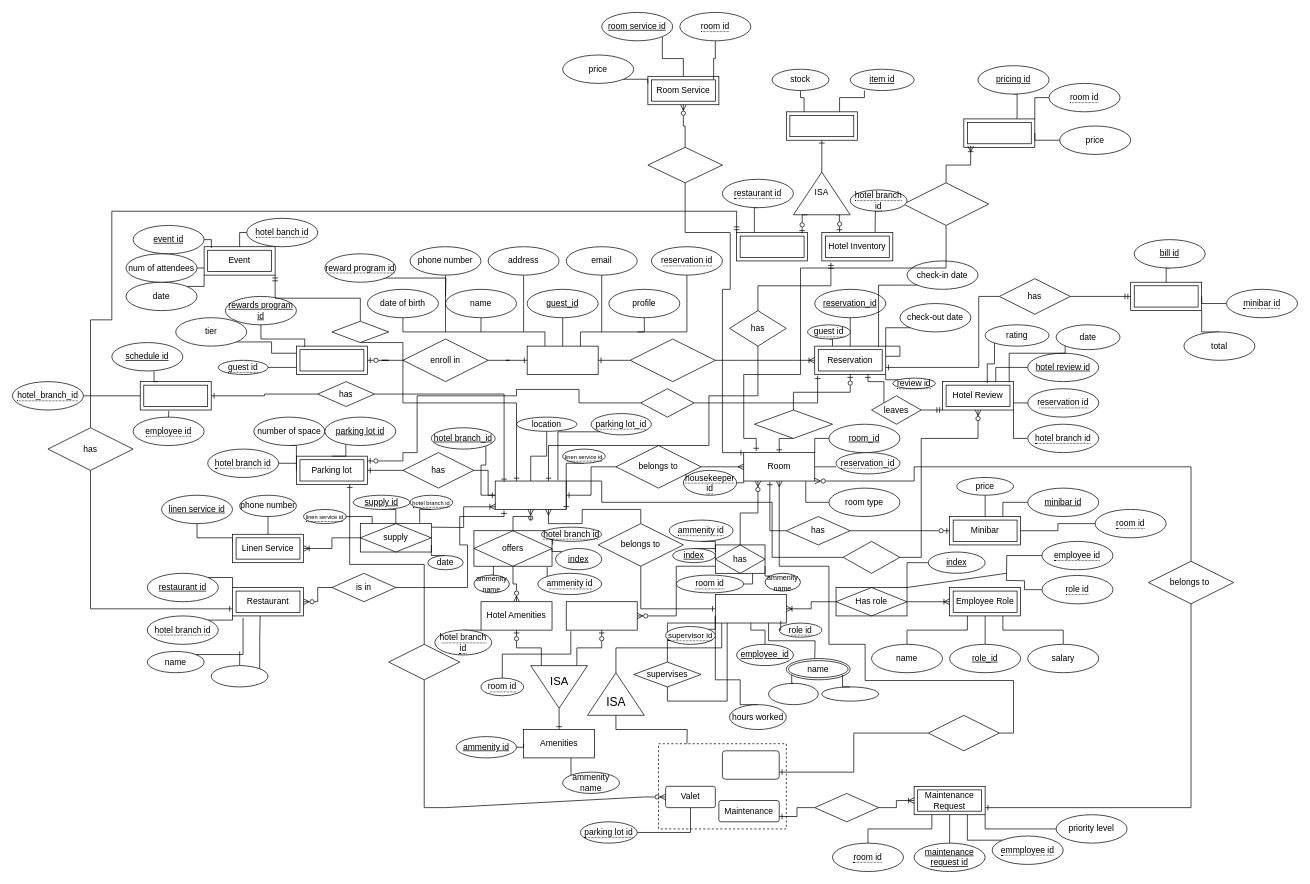
Image size: 1310x884. Some labels were removed from this diagram. Each missing label, with the box of its shape:
assigned to: (388, 644, 460, 680)
belogns to: (842, 541, 900, 573)
Bill: (1130, 282, 1202, 311)
can have: (754, 409, 832, 438)
can order: (647, 147, 722, 183)
cleans: (928, 715, 999, 751)
completes: (814, 793, 879, 822)
Employee: (715, 594, 786, 623)
first name: (768, 683, 818, 705)
Guest: (526, 345, 598, 375)
hosted: (331, 321, 389, 343)
Hotel Branch: (495, 480, 566, 509)
hours of opperation: (211, 665, 268, 687)
Housekeeper: (722, 750, 779, 779)
Inventory: (786, 111, 857, 140)
is priced at: (903, 182, 989, 225)
last name: (821, 686, 879, 701)
make: (629, 338, 715, 382)
Predictive Pricing: (963, 118, 1035, 147)
reserve: (640, 388, 694, 417)
Restaurant Inventory: (736, 232, 808, 261)
Rewards Program: (296, 345, 367, 375)
Room Amenities: (566, 601, 637, 630)
Staff Schedule: (140, 381, 211, 410)
